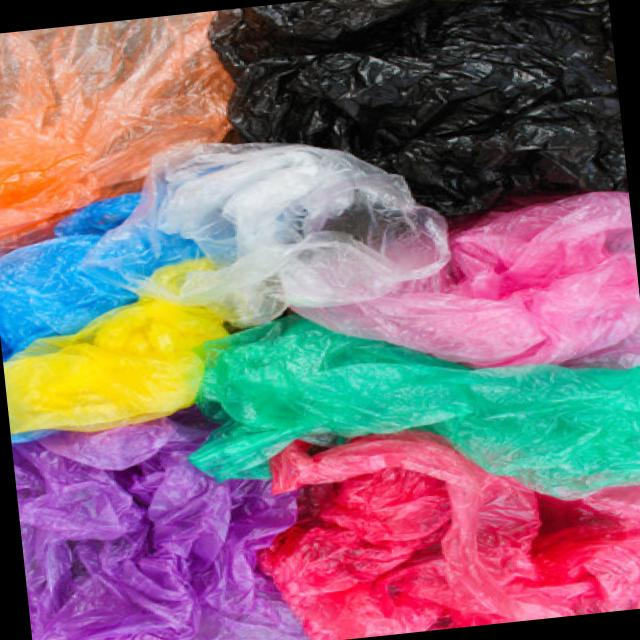plastic_bag: (86, 109, 459, 334), (228, 435, 640, 630)
